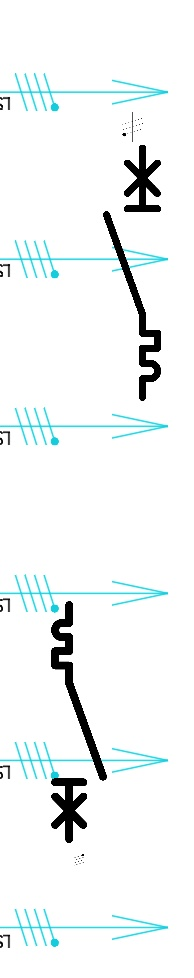interruptor_termomagnetico: (100, 141, 164, 403), (49, 599, 109, 845)
